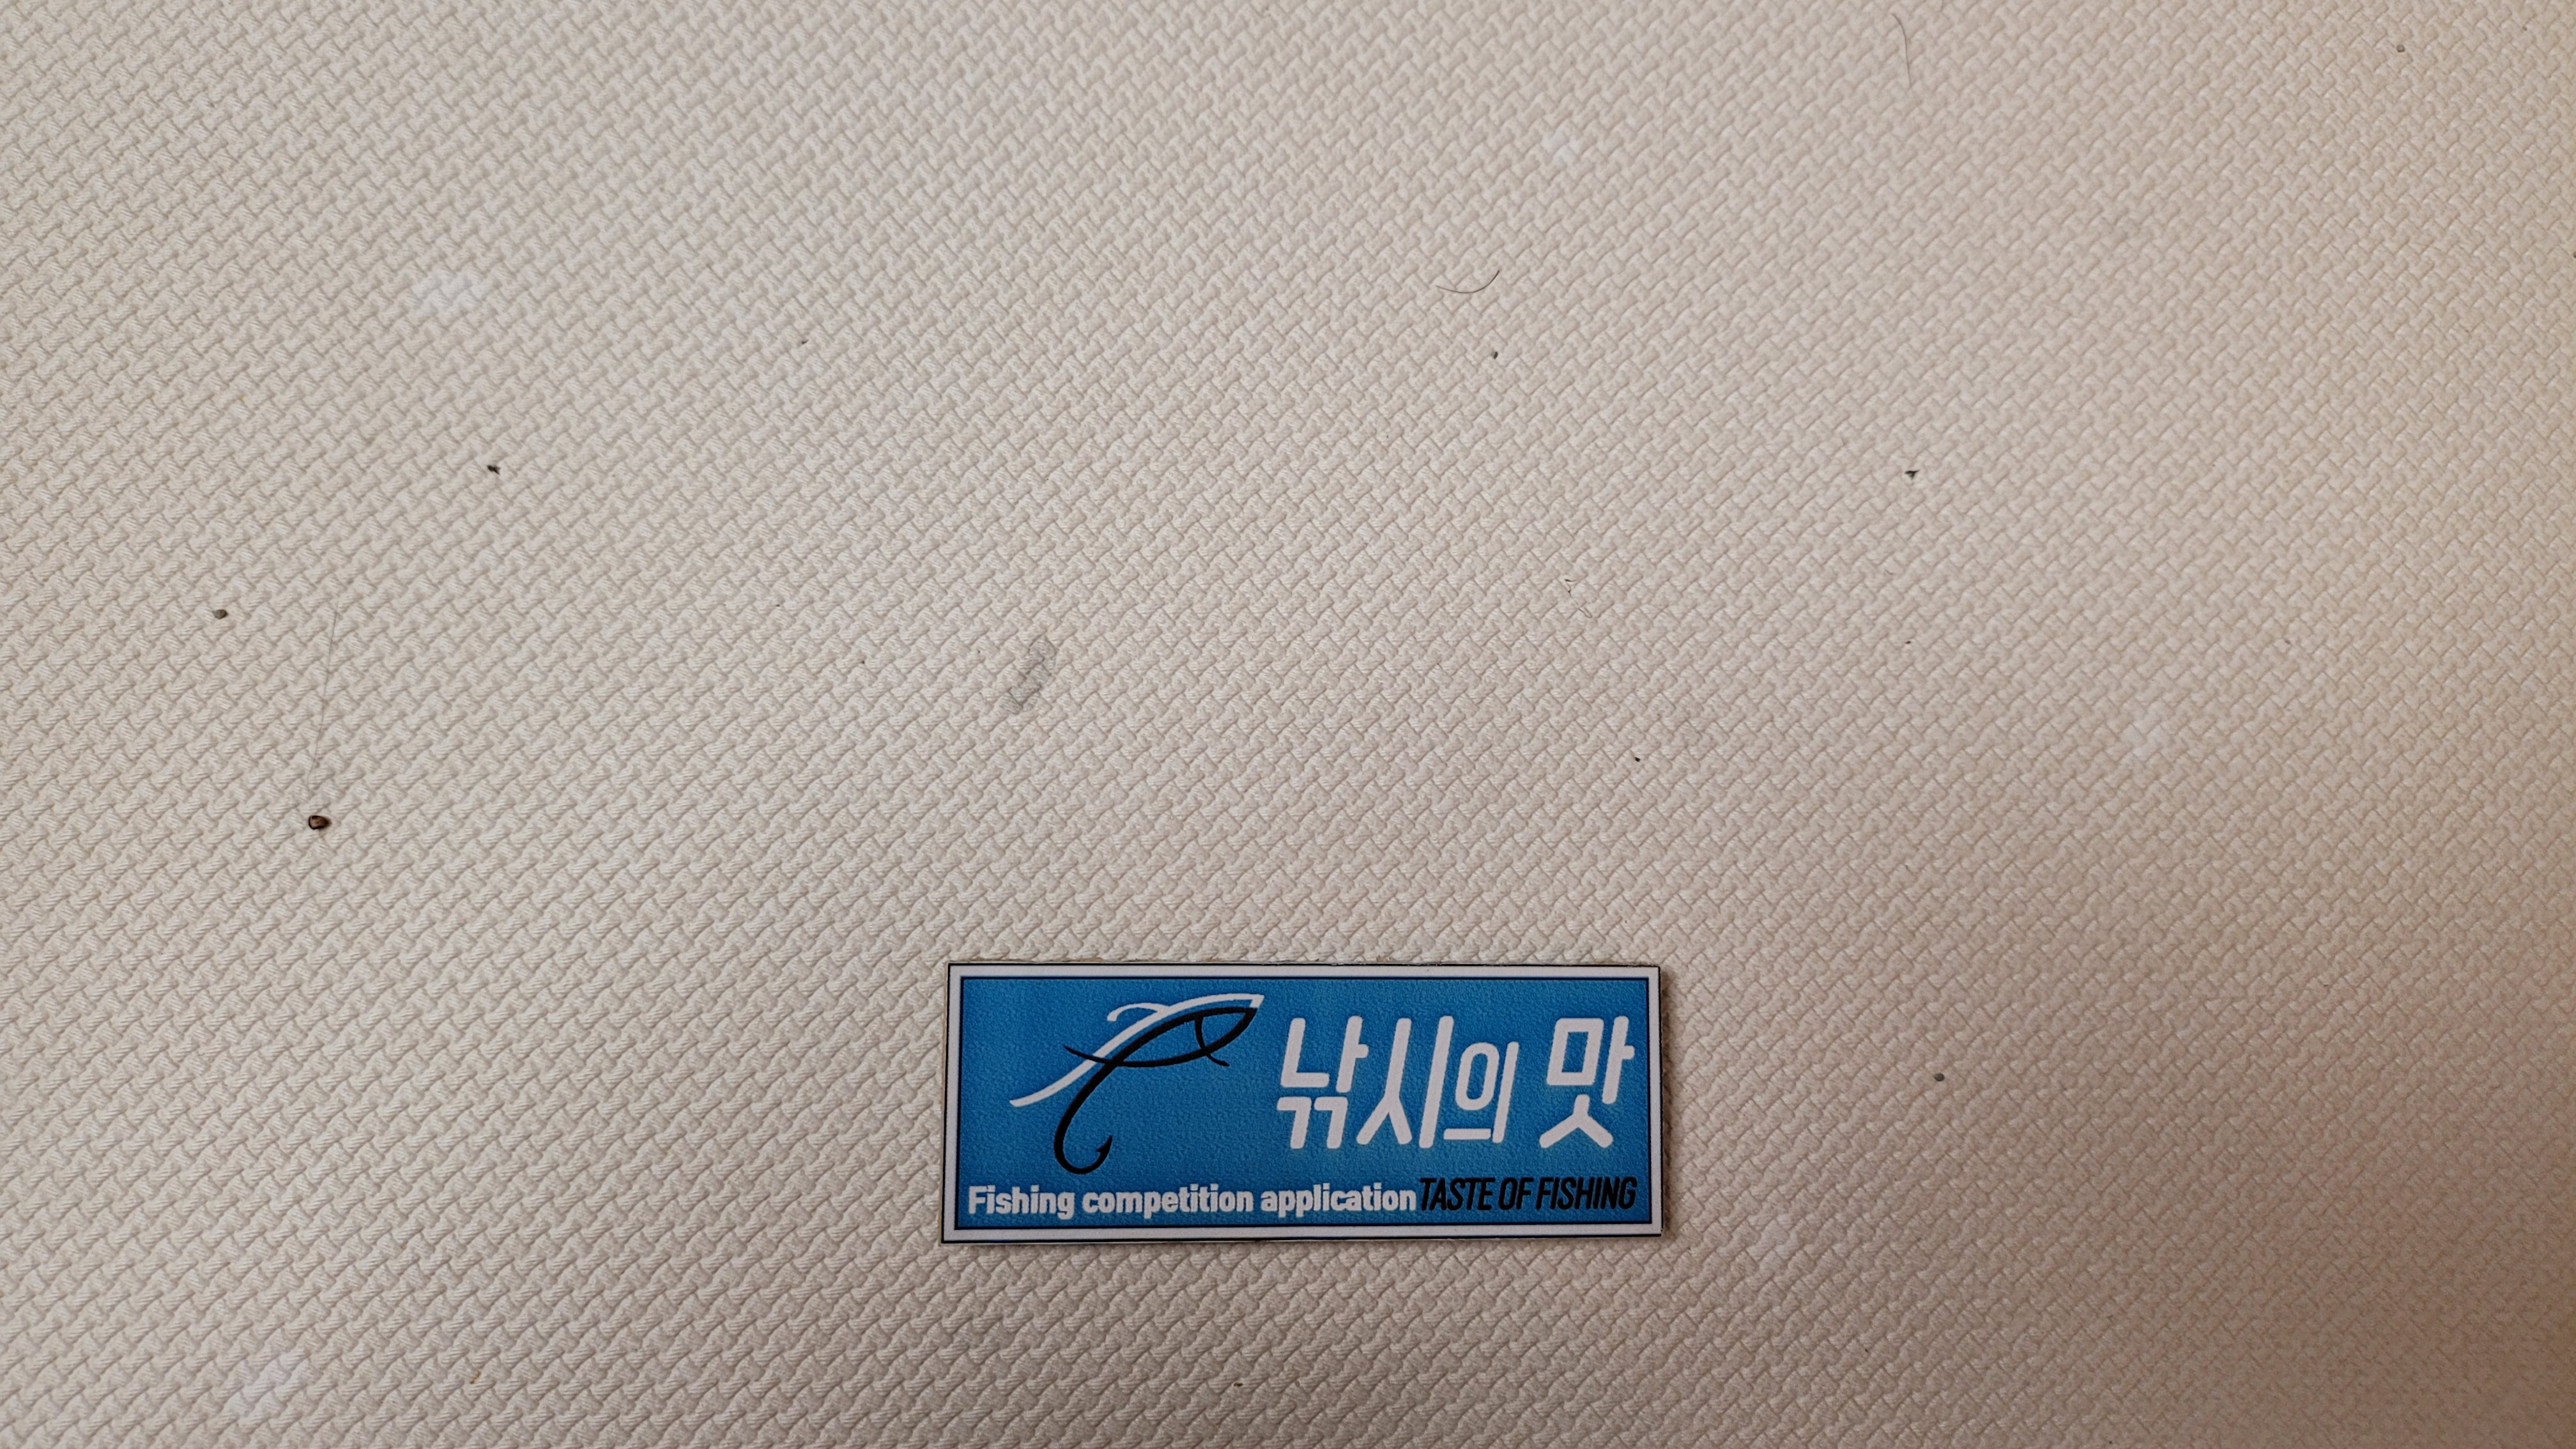tag: (950, 962, 1672, 1238)
